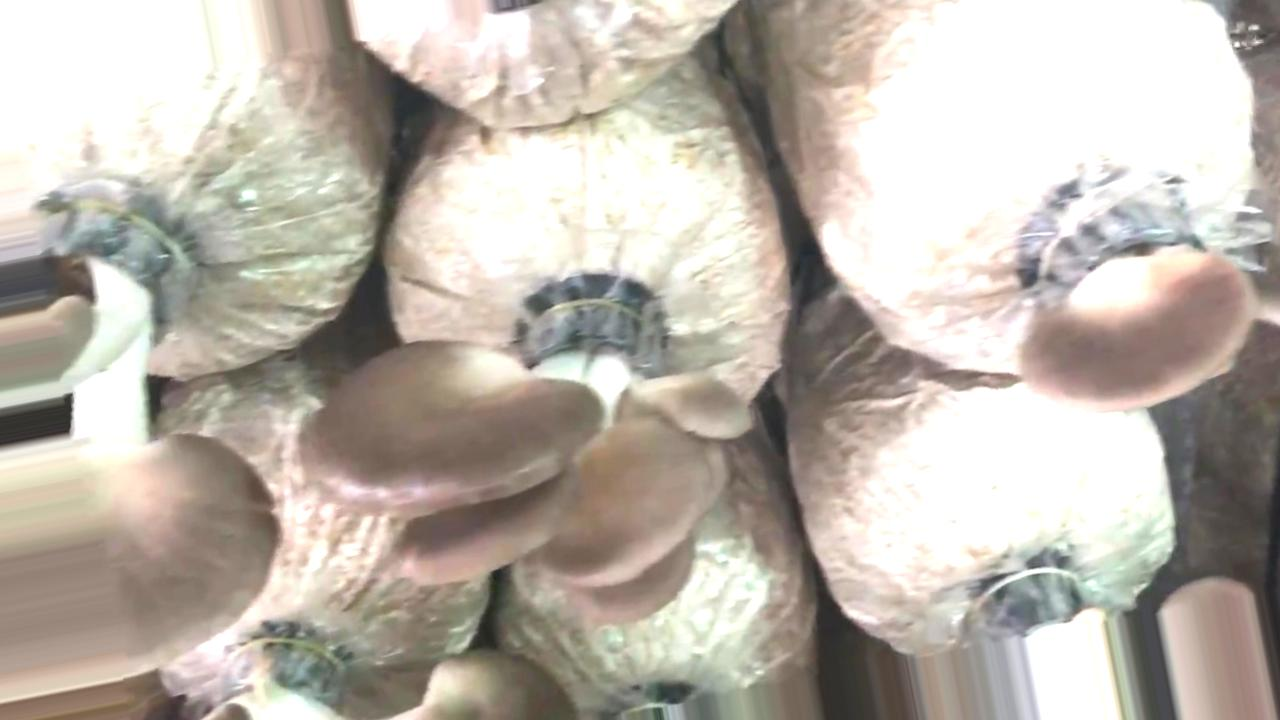nam: (300, 295, 759, 628), (1, 173, 286, 704), (1021, 185, 1253, 417)
